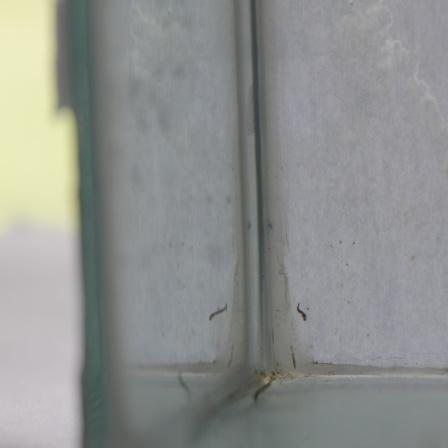Jentik-Nyamuk: (293, 302, 310, 323)
